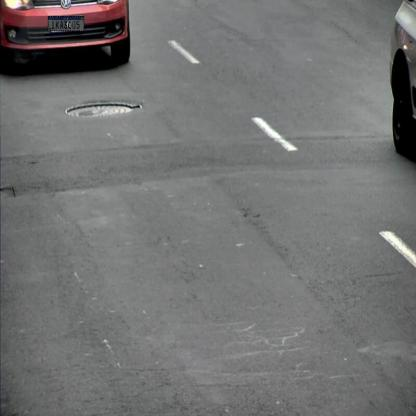PlacaM: (48, 16, 84, 31)
